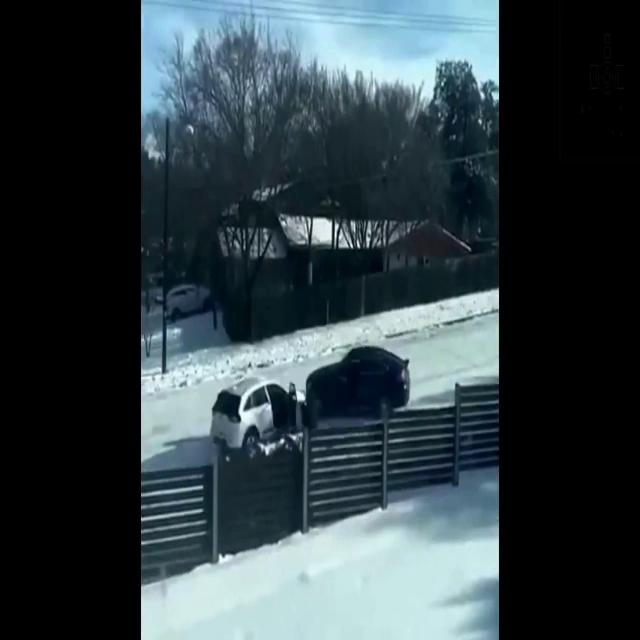accident: (207, 342, 413, 432)
